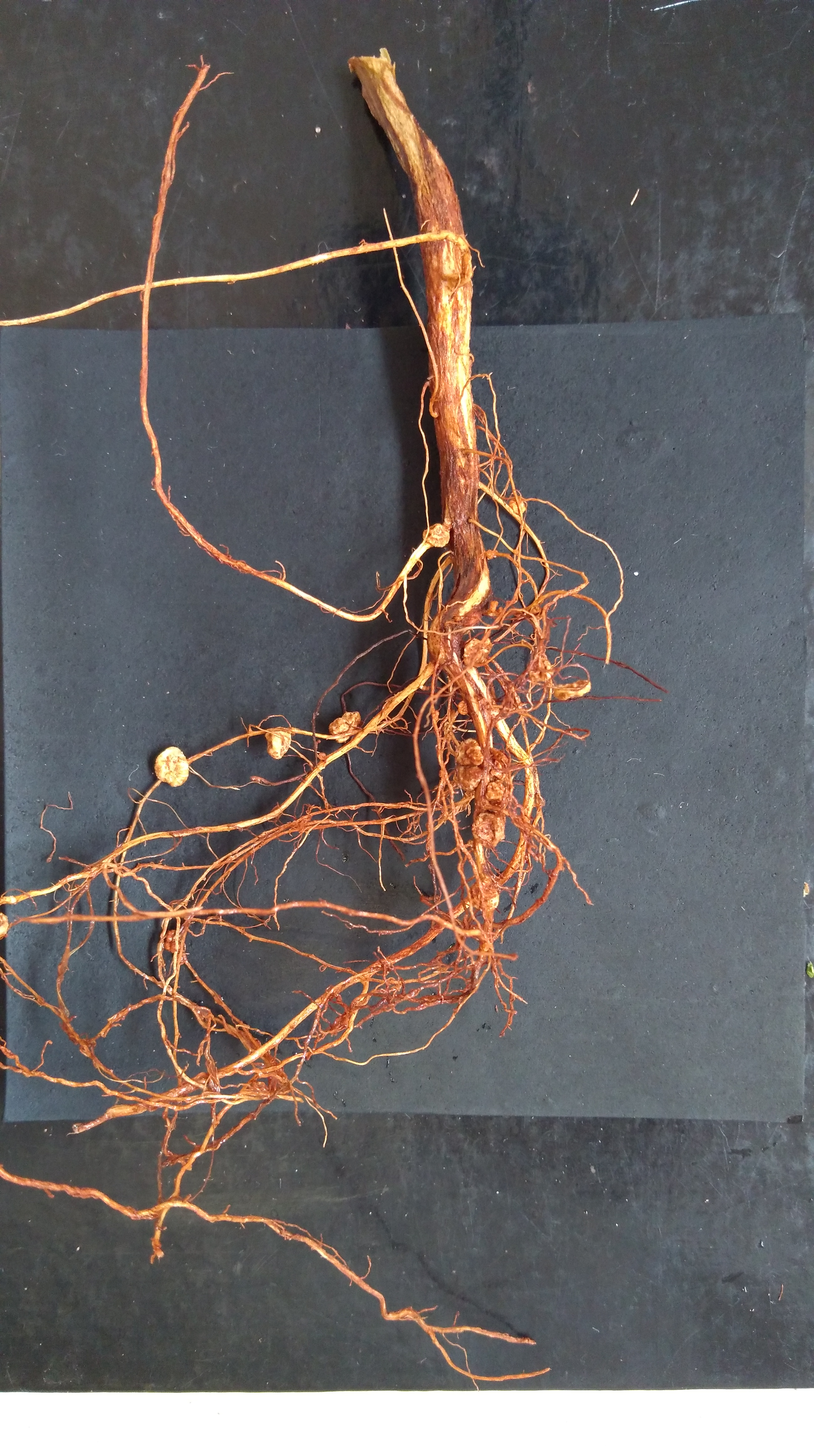nodule: (153, 745, 192, 790), (470, 809, 509, 848), (549, 676, 596, 707), (466, 872, 500, 912), (461, 632, 495, 671), (327, 709, 363, 744), (262, 729, 295, 761), (454, 737, 484, 766), (421, 522, 451, 549), (452, 765, 483, 791), (529, 660, 555, 686), (488, 745, 512, 767), (485, 779, 506, 801), (508, 496, 528, 517), (163, 930, 181, 953), (457, 699, 469, 720), (532, 793, 546, 808)
